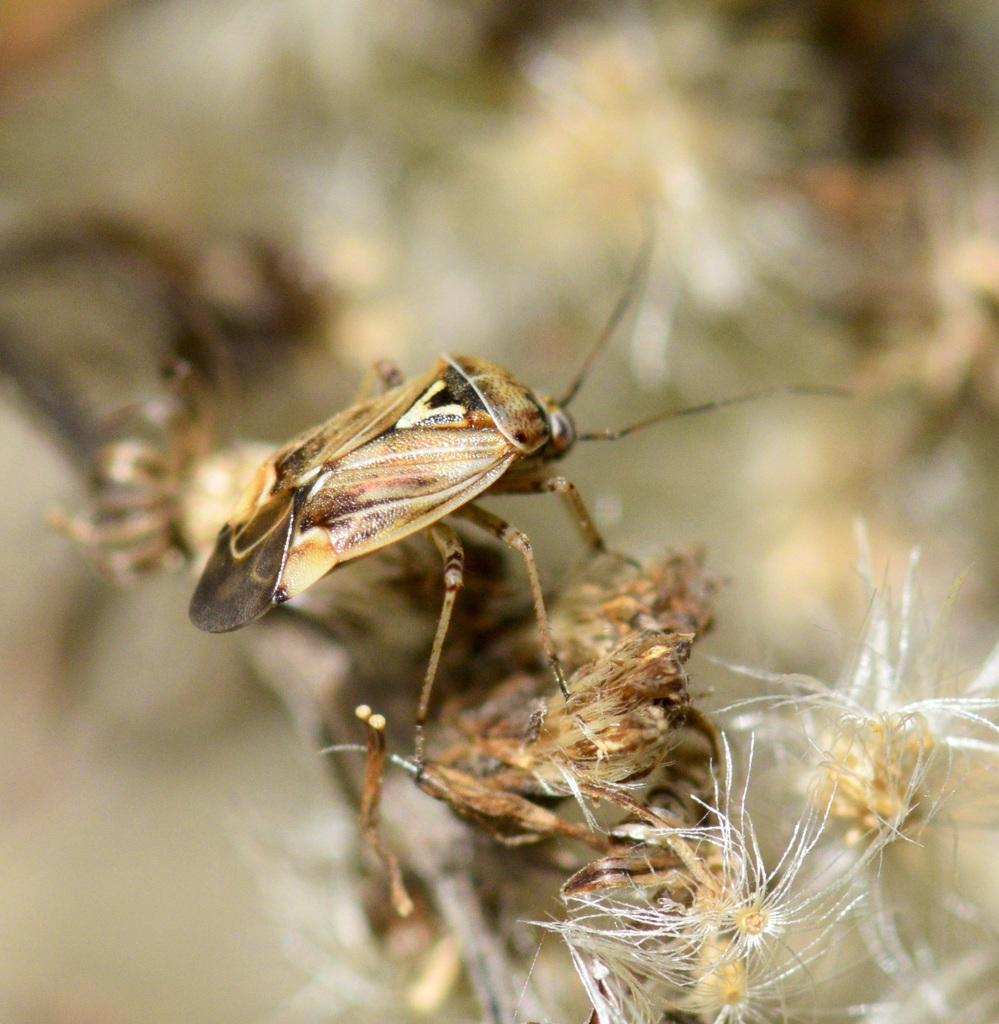plant_bugs: (64, 177, 871, 806)
